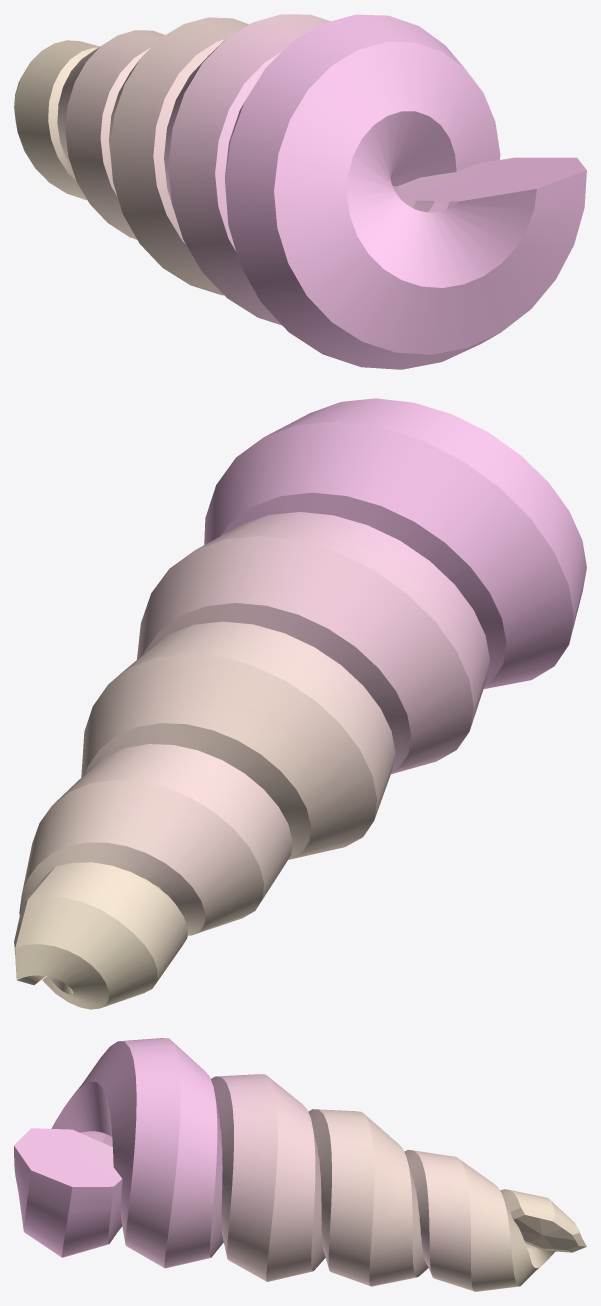
The model's file is longshell.fbx.
3 renders of one model, top to bottom at view 1: azimuth 30°, elevation 25°; view 2: azimuth 150°, elevation 25°; view 3: azimuth 270°, elevation 25°, orthographic. The views are drawn at different scales.
Visible parts, largest first — view 1: pHelix2, pHelix3; view 2: pHelix2; view 3: pHelix2, pHelix3.
Boxes of the visible parts, x1=… form: pHelix2: x1=14, y1=14, x2=586, y2=369; pHelix3: x1=393, y1=155, x2=586, y2=212; pHelix2: x1=14, y1=398, x2=586, y2=1009; pHelix2: x1=14, y1=1038, x2=586, y2=1291; pHelix3: x1=14, y1=1128, x2=223, y2=1259.
Bounding box in the file's own units: 4.1 × 4.37 × 9.64.
